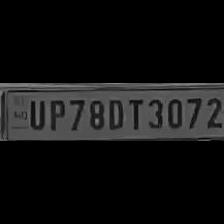0: (164, 94, 182, 130)
2: (202, 94, 222, 130)
3: (146, 94, 164, 130)
7: (64, 96, 84, 132), (184, 94, 202, 130)
8: (86, 96, 106, 132)
D: (105, 95, 124, 131)
P: (46, 96, 66, 132)
T: (125, 95, 144, 131)
U: (26, 97, 46, 130)
